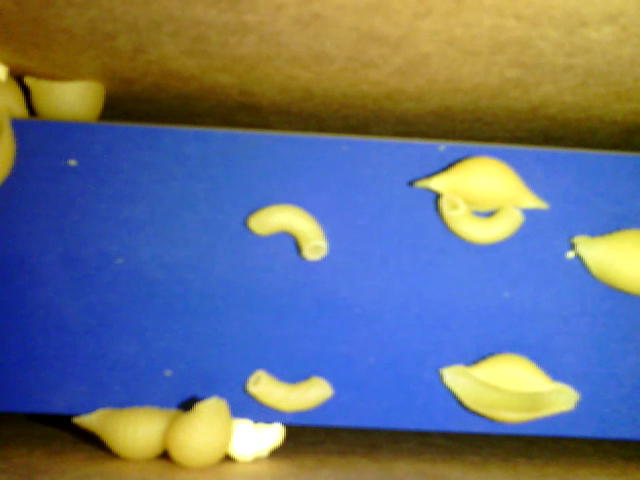elbow: (246, 200, 330, 265), (246, 362, 338, 417), (437, 195, 526, 246)
shell: (438, 349, 581, 425), (413, 151, 551, 212), (72, 406, 190, 465), (166, 396, 238, 469), (570, 224, 638, 297), (22, 76, 108, 124)
